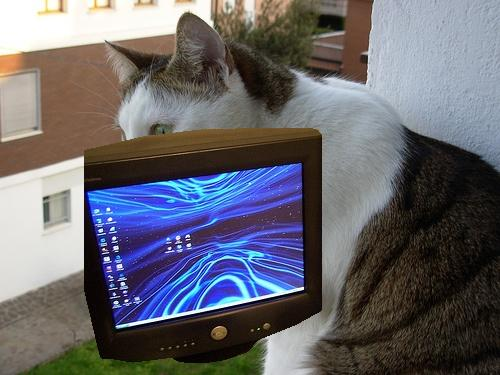tampered: (85, 129, 322, 363)
